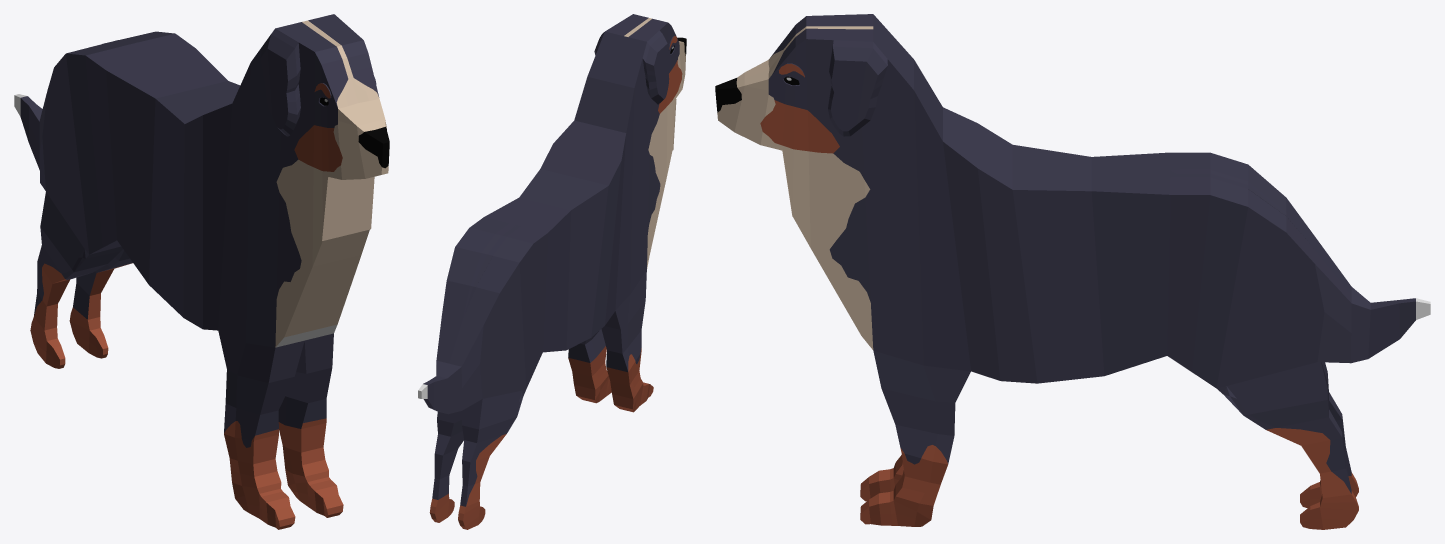
The model's file is bernese_dog.glb.
The picture shows the model from 3 angles, left to right: view 1: azimuth 30°, elevation 25°; view 2: azimuth 150°, elevation 25°; view 3: azimuth 270°, elevation 25°; orthographic projection. The views are drawn at different scales.
Parts seen in each view (by area): view 1: Cube_1; view 2: Cube_1; view 3: Cube_1.
Part boxes in pixels (x1,y1,x2,y2): Cube_1: (14, 14, 389, 529); Cube_1: (418, 14, 686, 529); Cube_1: (715, 14, 1430, 529).
Size of the model in its own units: 0.2435 by 1.23 by 1.63.
